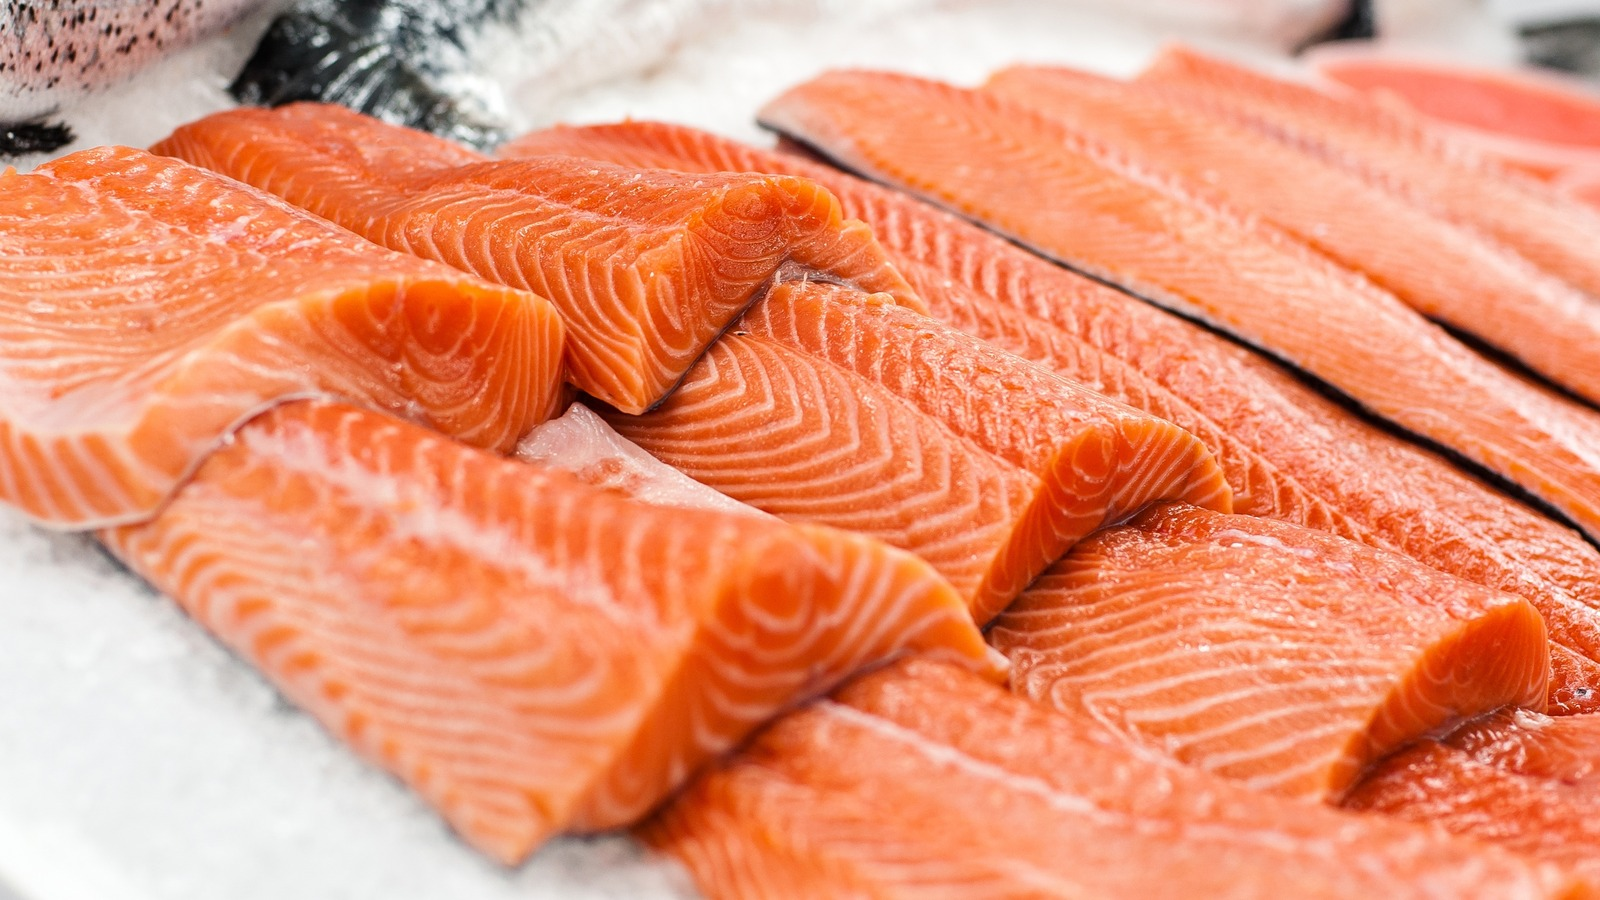Tuna: (47, 395, 995, 880), (748, 51, 1600, 549), (593, 245, 1251, 641), (149, 99, 929, 423), (0, 130, 581, 532), (935, 478, 1564, 831)
